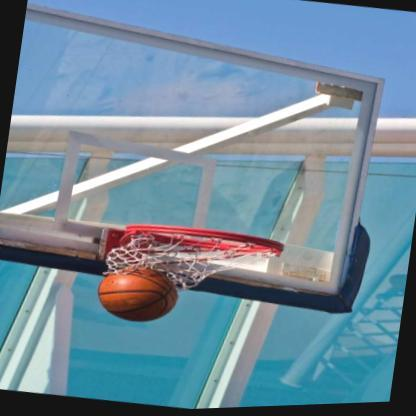basketball: (92, 262, 182, 330)
rim: (107, 215, 287, 291)
